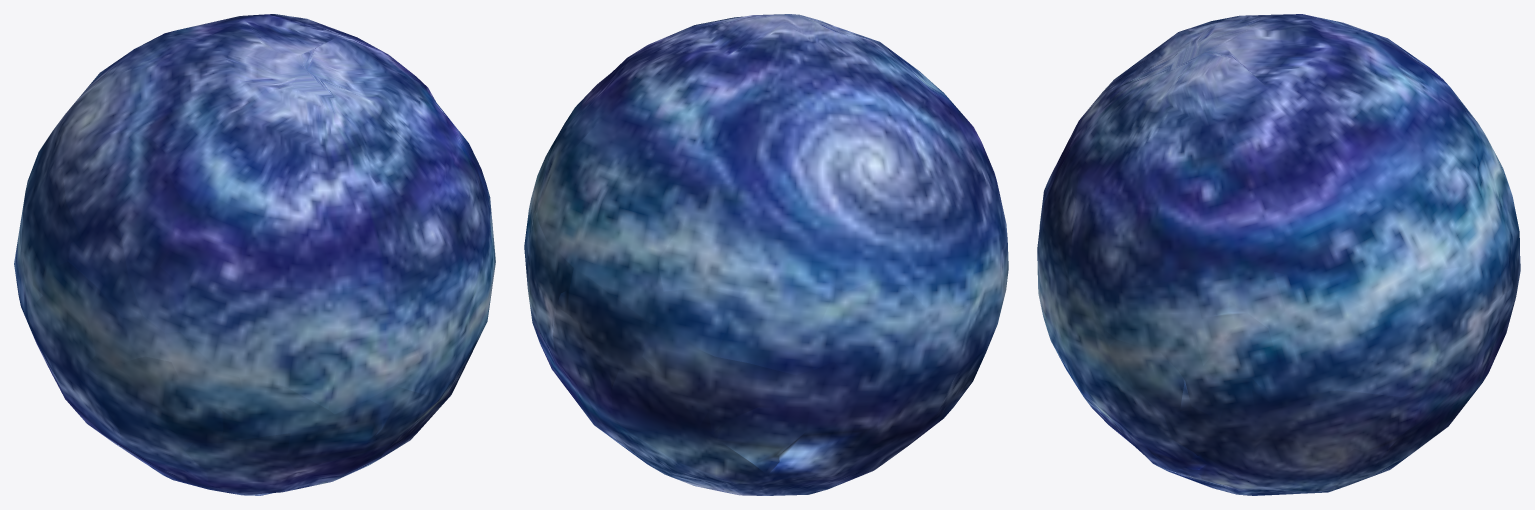
Rendered from planet_11-lod.glb.
3 renders of one model, left to right at view 1: azimuth 30°, elevation 25°; view 2: azimuth 150°, elevation 25°; view 3: azimuth 270°, elevation 25°, orthographic.
Visible parts, largest first — view 1: Mesh_0.001; view 2: Mesh_0.001; view 3: Mesh_0.001.
Part boxes in pixels (x1,y1,x2,y2): Mesh_0.001: [14, 14, 495, 495]; Mesh_0.001: [524, 14, 1008, 495]; Mesh_0.001: [1037, 14, 1520, 495].
Size of the model in its own units: 1.9 by 1.9 by 1.9.
1 material, 1 textured.
